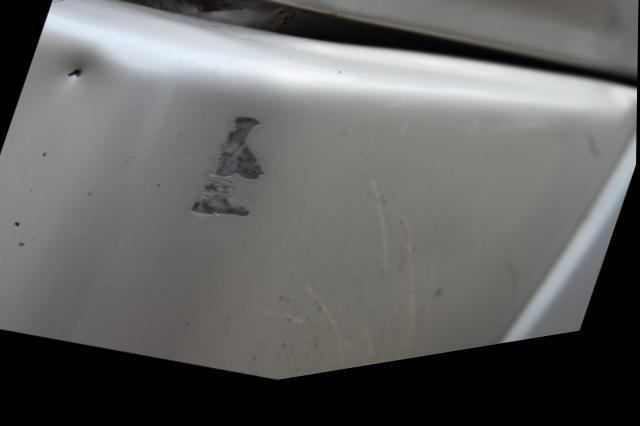dent: (39, 46, 108, 107)
rub: (222, 192, 432, 389)
scratch: (185, 121, 266, 231)
